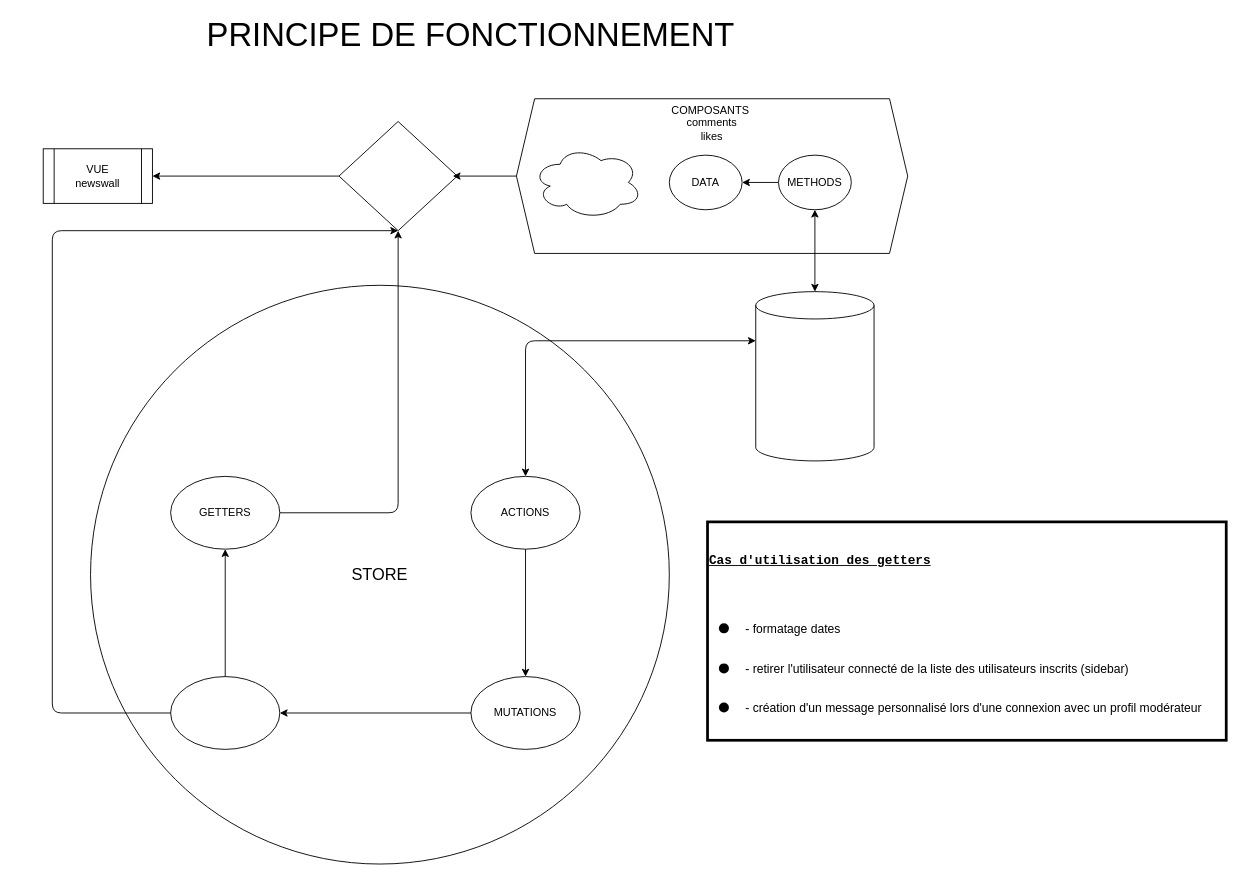
Some shapes in this 1243 by 880 pixel diagram are drawn without their labels. Each missing label, with the centre of its shape:
"API" goes at [814,376].
"COMPOSANT messages" goes at [397,176].
"props :messageId" goes at [587,182].
"STATE" goes at [225,712].
